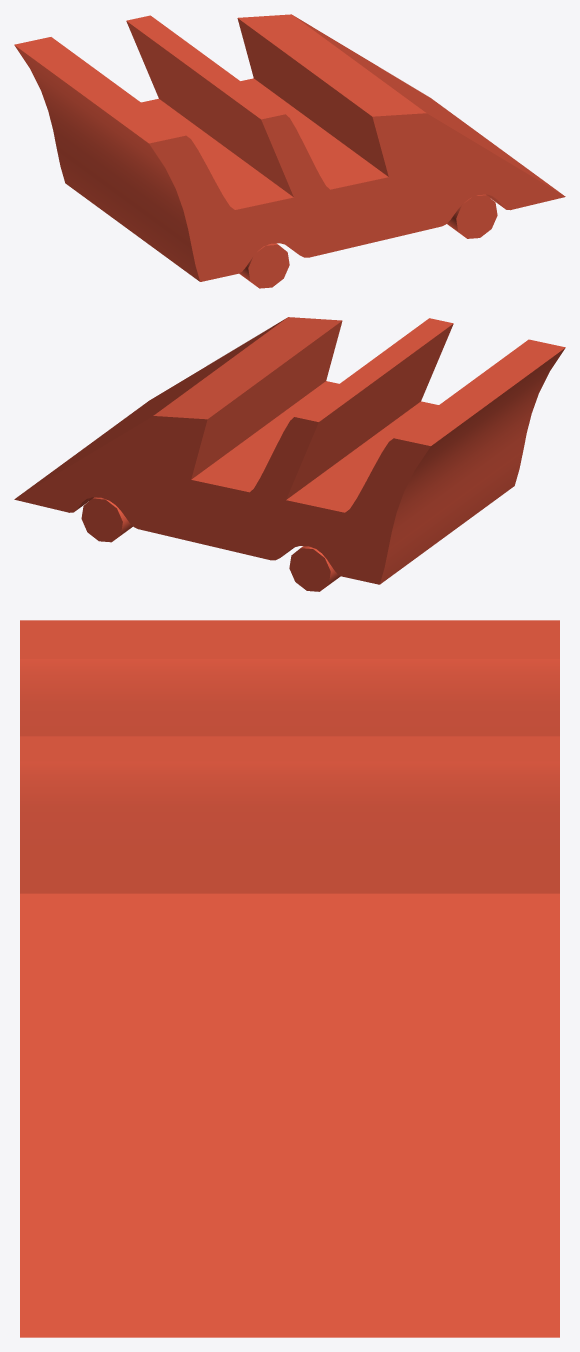
The model's file is RC_Cart.fbx.
The picture shows the model from 3 angles, top to bottom: view 1: azimuth 30°, elevation 25°; view 2: azimuth 150°, elevation 25°; view 3: azimuth 270°, elevation 25°; orthographic projection. The views are drawn at different scales.
Visible parts, largest first — view 1: RC_Cart; view 2: RC_Cart; view 3: RC_Cart.
Part boxes in pixels (x1,y1,x2,y2): RC_Cart: [14, 14, 565, 288]; RC_Cart: [14, 317, 565, 591]; RC_Cart: [20, 620, 559, 1337].
Bounding box in the file's own units: 469 × 190 × 263.
